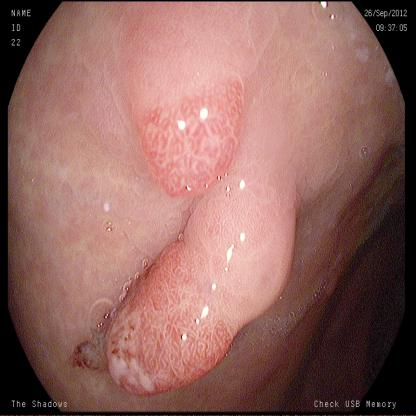Polyps: (62, 235, 329, 401)
